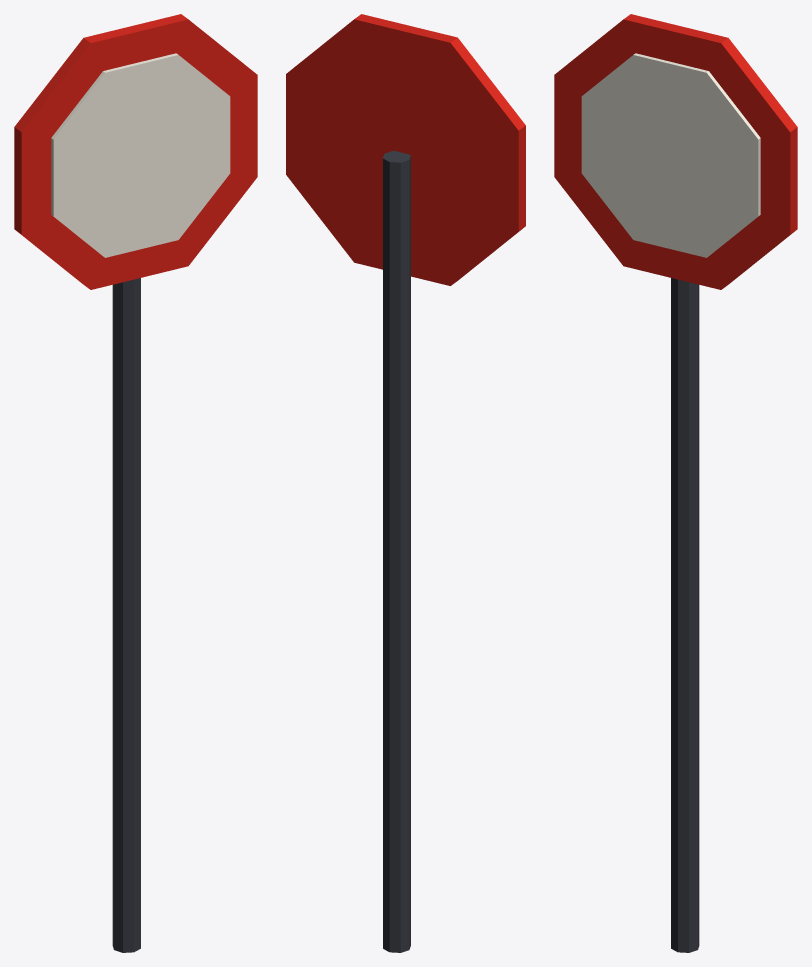
Rendered from stop_sign.glb.
The picture shows the model from 3 angles, left to right: view 1: azimuth 30°, elevation 25°; view 2: azimuth 150°, elevation 25°; view 3: azimuth 330°, elevation 25°; orthographic projection.
Parts seen in each view (by area): view 1: stop_sign; view 2: stop_sign; view 3: stop_sign.
Part boxes in pixels (x1=…): stop_sign: x1=14, y1=14, x2=257, y2=952; stop_sign: x1=286, y1=14, x2=525, y2=952; stop_sign: x1=554, y1=14, x2=797, y2=952.
Size of the model in its own units: 0.7391 by 2.77 by 0.1225.
